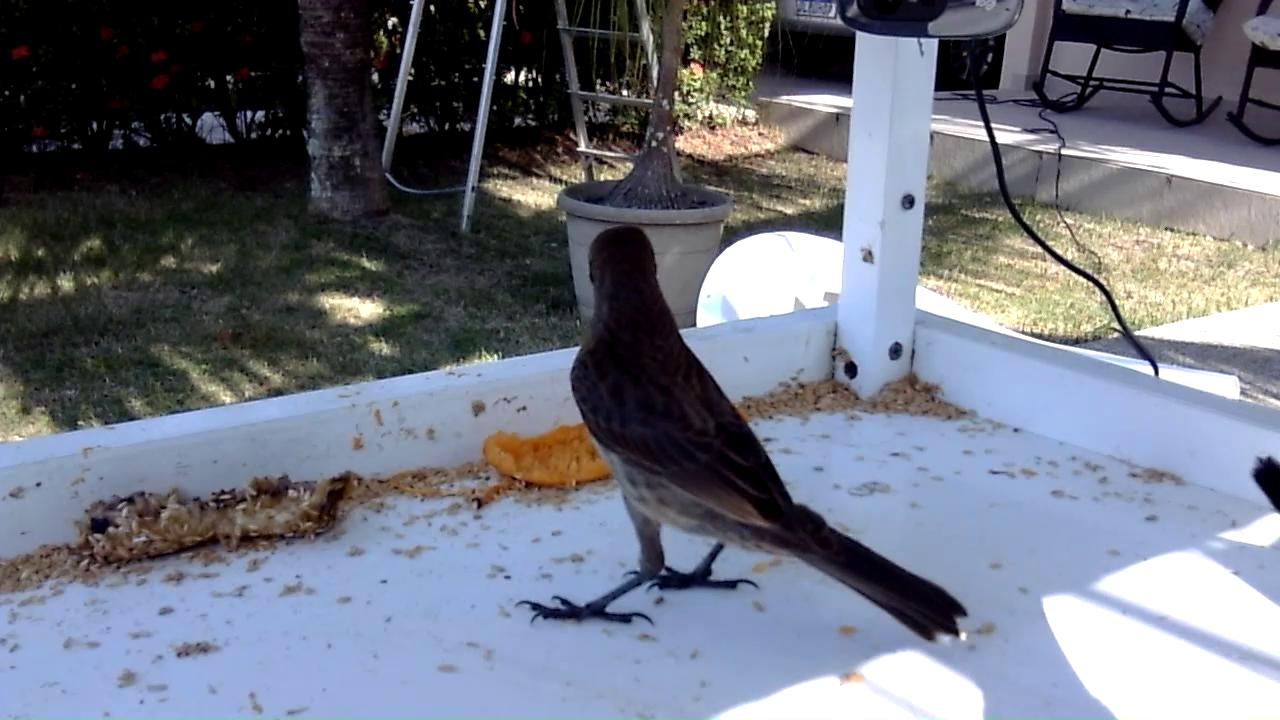chupim: (511, 220, 973, 650)
